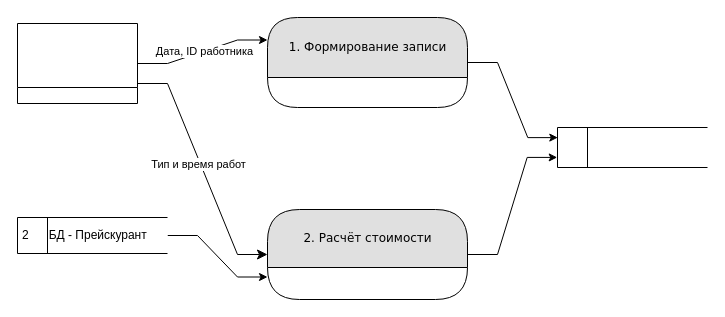
The diagram is 725 pixels wide and 317 high, and some of its shapes have lost their labels. Each missing label, with the centre of its shape:
"1 БД - Запись ремонта" goes at [632,147].
"1. Работник" goes at [77,63].
